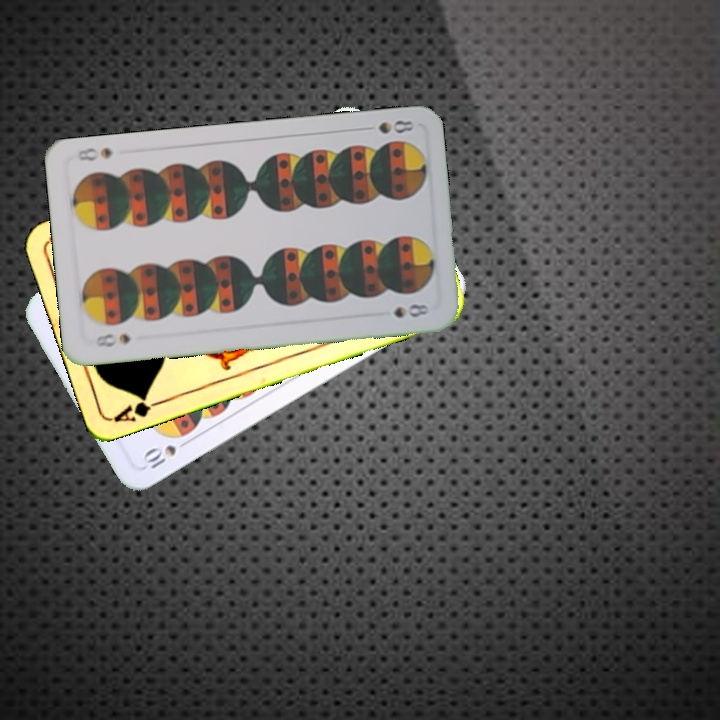GA: (109, 390, 167, 425)
S10: (138, 435, 194, 472)
S8: (358, 116, 416, 136), (92, 329, 134, 350)
